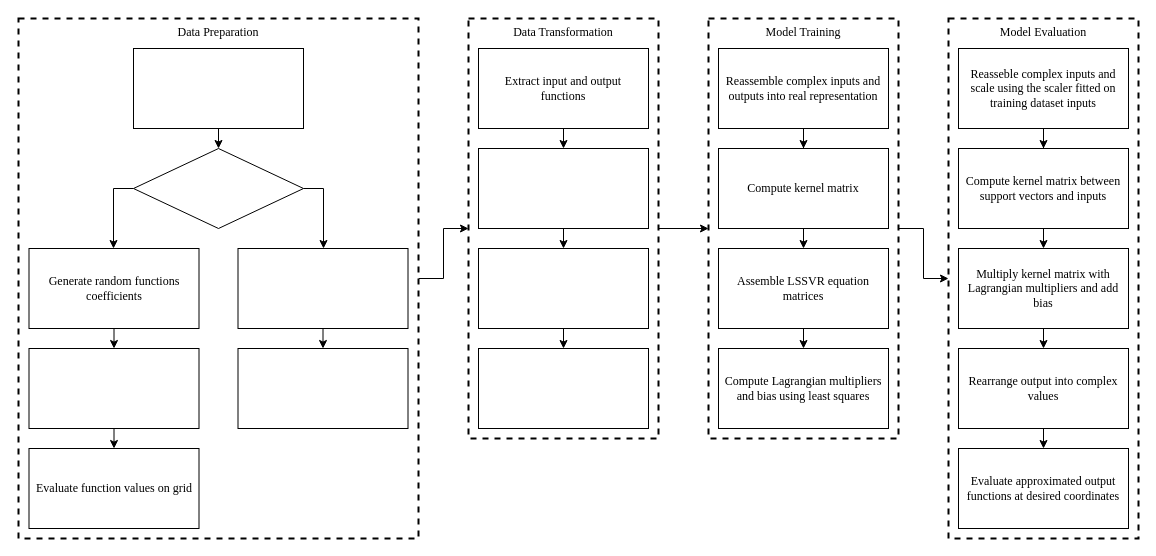
The diagram is 1156 pixels wide and 556 high, and some of its shapes have lost their labels. The centre of each missing label's shape, as x and y in pixels:
"Compute basis coefficients" belongs at [322,388].
"Compute parameters using desired PDE" belongs at [113,388].
"Does data need to be generated?" belongs at [218,188].
"Problem Specification" belongs at [218,88].
"Retrieve Data" belongs at [322,288].
"Scale input functions based on training dataset" belongs at [563,388].
"Split data into training, testing, and validation datasets" belongs at [563,288].
"Transform functions into basis coefficients" belongs at [563,188].
